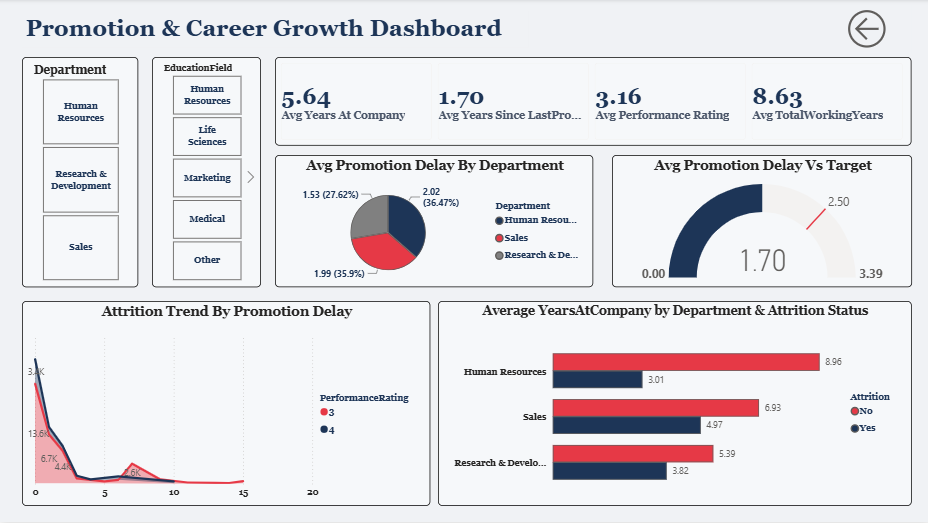

This screenshot's page, from the dashboard's own definition file:
{"tool":"powerbi","page":{"name":"Promotion & Performance","canvas":[1280,720],"ordinal":3},"visuals":[{"type":"textbox","box":[30.2,15.8,697,50.4],"z":0},{"type":"actionButton","title":"Home ","box":[1160.9,7.8,93.8,65.6],"z":1000},{"type":"cardVisual","fields":{"Data":["Avg(Fact Hr Analysis.YearsAtCompany)","Avg(Fact Hr Analysis.YearsSinceLastPromotion)","Avg(Fact Hr Analysis.PerformanceRating)","Avg(Fact Hr Analysis.TotalWorkingYears)"]},"box":[378.7,79.2,875.5,122.4],"z":2000},{"type":"slicer","fields":{"Values":["Dim Department.Department"]},"box":[30.2,79.2,159.8,316.8],"z":3000},{"type":"slicer","fields":{"Values":["Fact Hr Analysis.EducationField"]},"box":[208.8,79.2,149.8,316.8],"z":4000},{"type":"stackedAreaChart","title":"Attrition Trend By Promotion Delay","fields":{"Category":["Fact Hr Analysis.YearsSinceLastPromotion"],"Series":["Fact Hr Analysis.PerformanceRating"],"Y":["Measure.Attrition Count"]},"box":[30,415,561.7,281.7],"z":4001},{"type":"clusteredBarChart","title":"Average YearsAtCompany by Department & Attrition Status","fields":{"Category":["Fact Hr Analysis.Department"],"Y":["Avg(Fact Hr Analysis.YearsAtCompany)"],"Series":["Fact Hr Analysis.Attrition"]},"box":[603.3,415,651.7,281.7],"z":4002},{"type":"pieChart","title":"Avg Promotion Delay By Department ","fields":{"Category":["Fact Hr Analysis.Department"],"Y":["Avg(Fact Hr Analysis.YearsSinceLastPromotion)"]},"box":[378.3,215,438.3,181.7],"z":4003},{"type":"gauge","title":"Avg Promotion Delay Vs Target","fields":{"Y":["Avg(Fact Hr Analysis.YearsSinceLastPromotion)"]},"box":[841.7,215,413.3,181.7],"z":4004}]}

Visuals, with their boxes in screenshot pixels (x1, y1, x2, y2), scaled from the page's 1280x720 canvas onto the 928x523 screenshot:
textbox: [x1=22, y1=11, x2=527, y2=48]
"Home " actionButton: [x1=842, y1=6, x2=910, y2=53]
cardVisual - Avg(Fact Hr Analysis.YearsAtCompany) x Avg(Fact Hr Analysis.YearsSinceLastPromotion): [x1=275, y1=58, x2=909, y2=146]
slicer - Dim Department.Department: [x1=22, y1=58, x2=138, y2=288]
slicer - Fact Hr Analysis.EducationField: [x1=151, y1=58, x2=260, y2=288]
"Attrition Trend By Promotion Delay" stackedAreaChart: [x1=22, y1=301, x2=429, y2=506]
"Average YearsAtCompany by Department & Attrition Status" clusteredBarChart: [x1=437, y1=301, x2=910, y2=506]
"Avg Promotion Delay By Department " pieChart: [x1=274, y1=156, x2=592, y2=288]
"Avg Promotion Delay Vs Target" gauge: [x1=610, y1=156, x2=910, y2=288]
